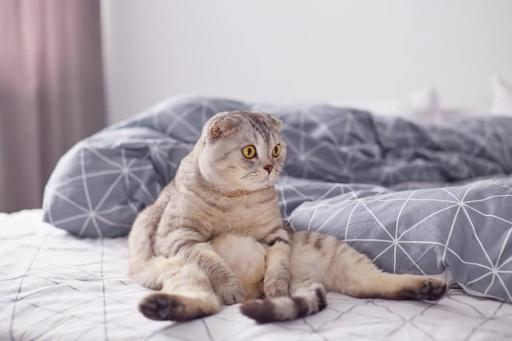cat_sitting: (128, 111, 447, 323)
